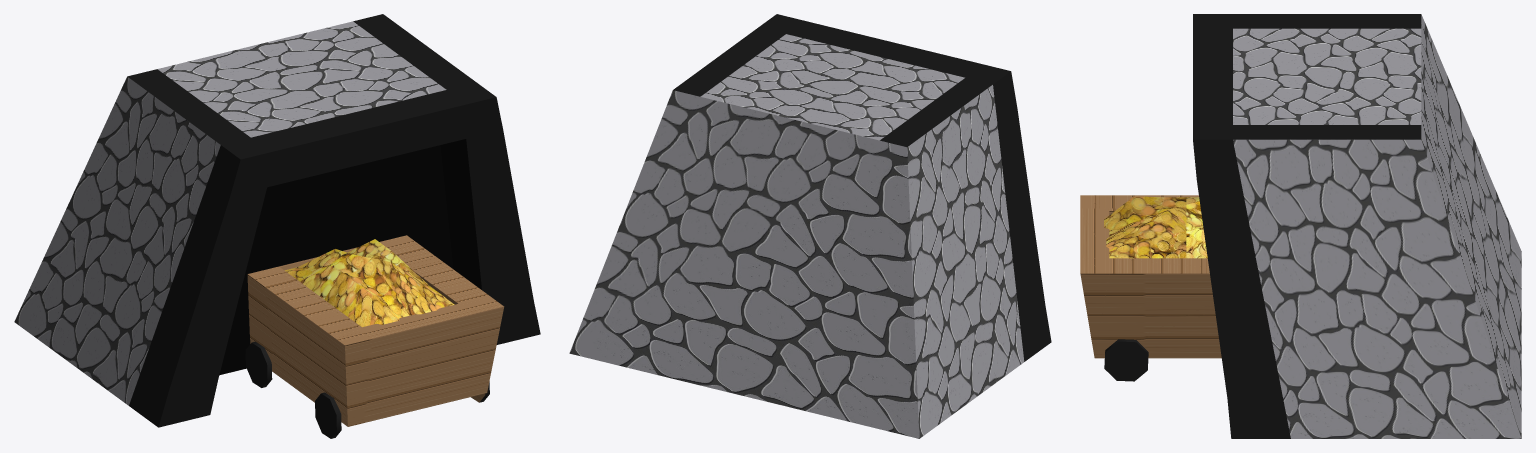
The model's file is minaNvl1.fbx.
3 renders of one model, left to right at view 1: azimuth 30°, elevation 25°; view 2: azimuth 150°, elevation 25°; view 3: azimuth 270°, elevation 25°, orthographic. The views are drawn at different scales.
Visible parts, largest first — view 1: MinaNVl002, Box006, Plane002, Cylinder012, Cylinder011; view 2: MinaNVl002; view 3: MinaNVl002, Box006, Plane002, Cylinder010.
Boxes of the visible parts, box(x1,y1,x2,y2) form: MinaNVl002: box(14, 14, 540, 427); Box006: box(247, 235, 504, 426); Plane002: box(284, 239, 454, 327); Cylinder012: box(315, 392, 341, 438); Cylinder011: box(245, 341, 272, 387); MinaNVl002: box(569, 14, 1051, 438); MinaNVl002: box(1193, 14, 1521, 438); Box006: box(1080, 195, 1221, 358); Plane002: box(1104, 196, 1207, 258); Cylinder010: box(1104, 339, 1148, 381).
Size of the model in its own units: 1.5 by 1.49 by 1.
